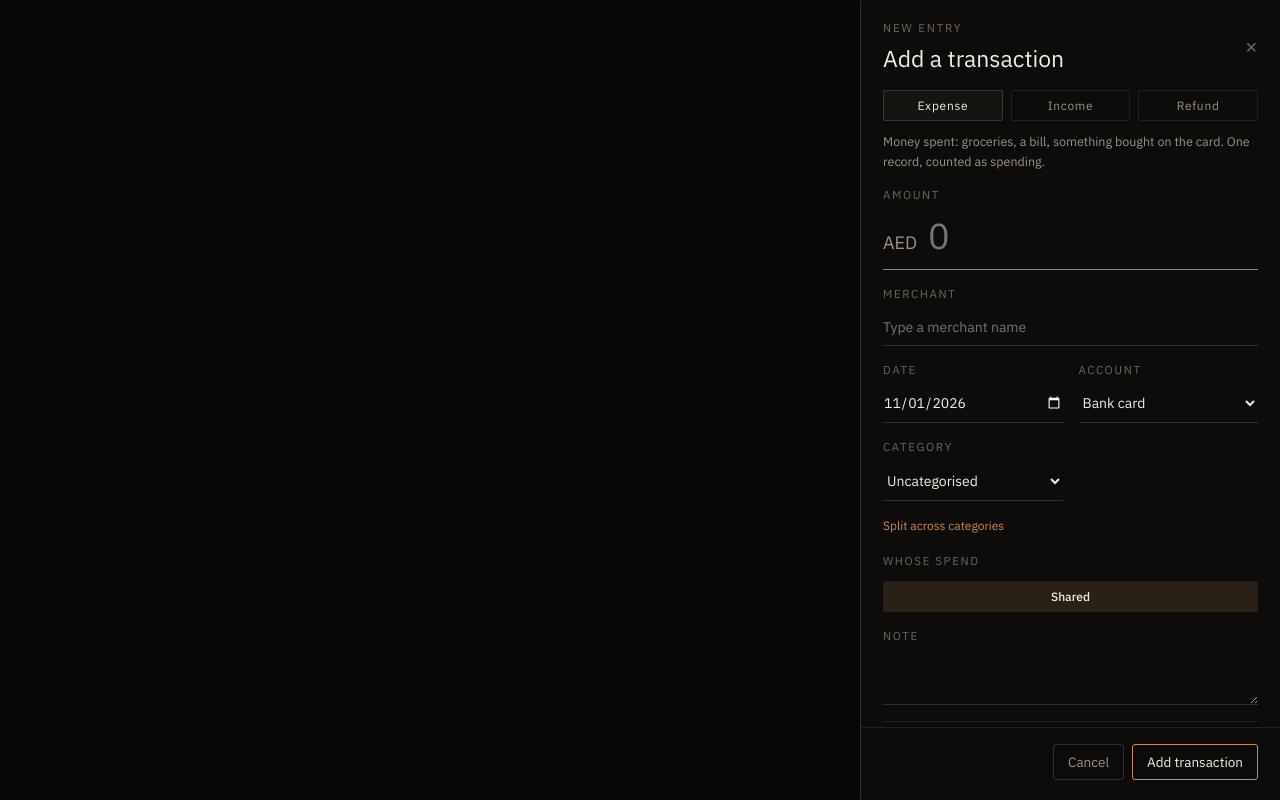
Test case: splitting a record across categories › refuses lines that do not add up, before saving anything
Type "500" into the number field with placeholder "0". click: (1093, 235)
box: [928,212,1258,259]
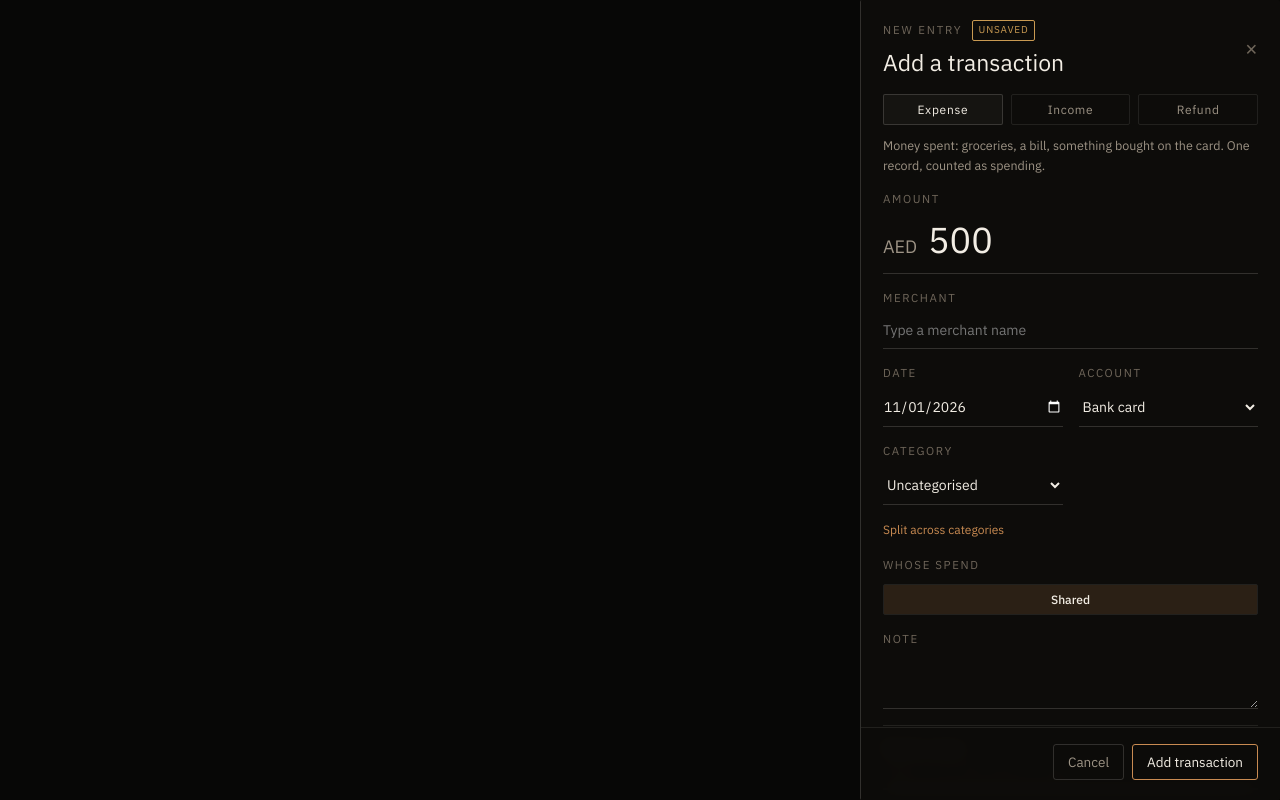
Click the button "Split across categories". click: (944, 530)
box: [883,521,1004,538]
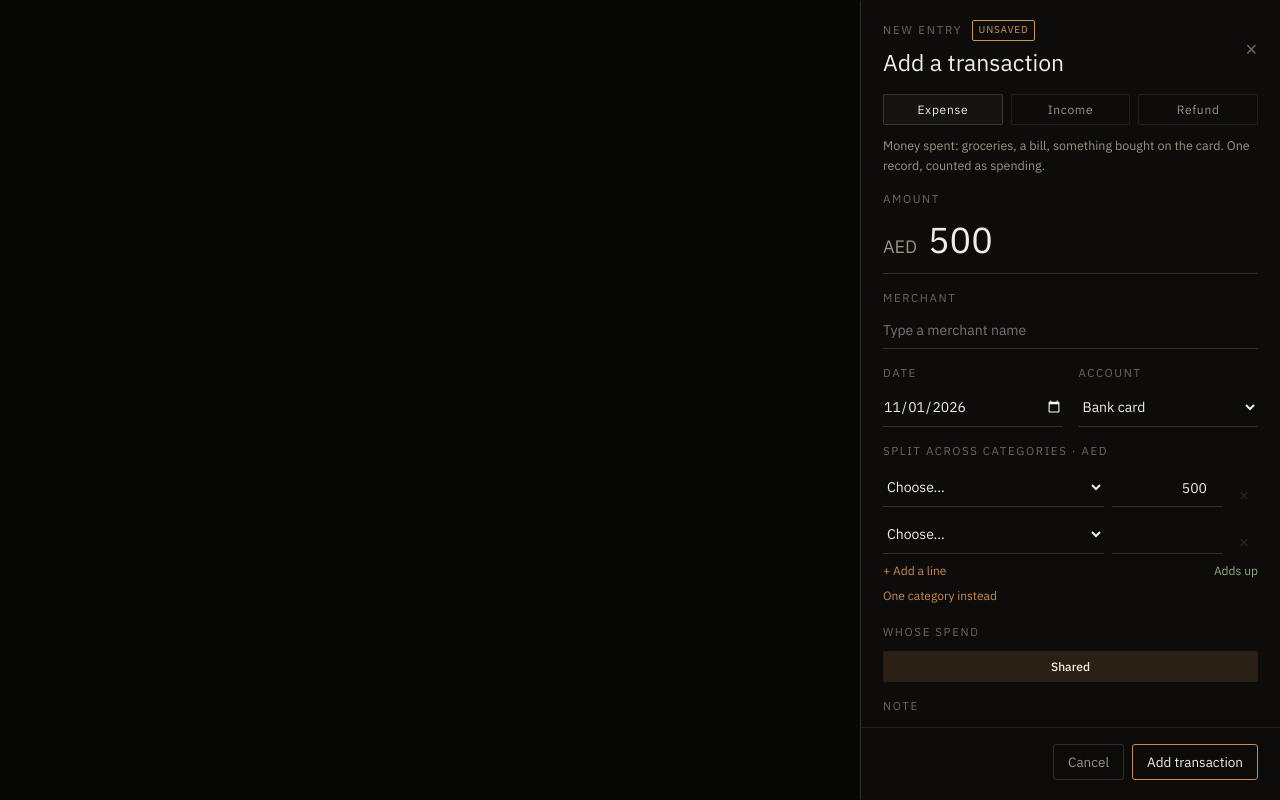
Select "Groceries" in the dropdown named "Category 1". click: (994, 487)
box: [883,468,1104,507]
Replace the text in the number field named "Amount 1" with "400". click: (1167, 488)
box: [1112,470,1222,507]
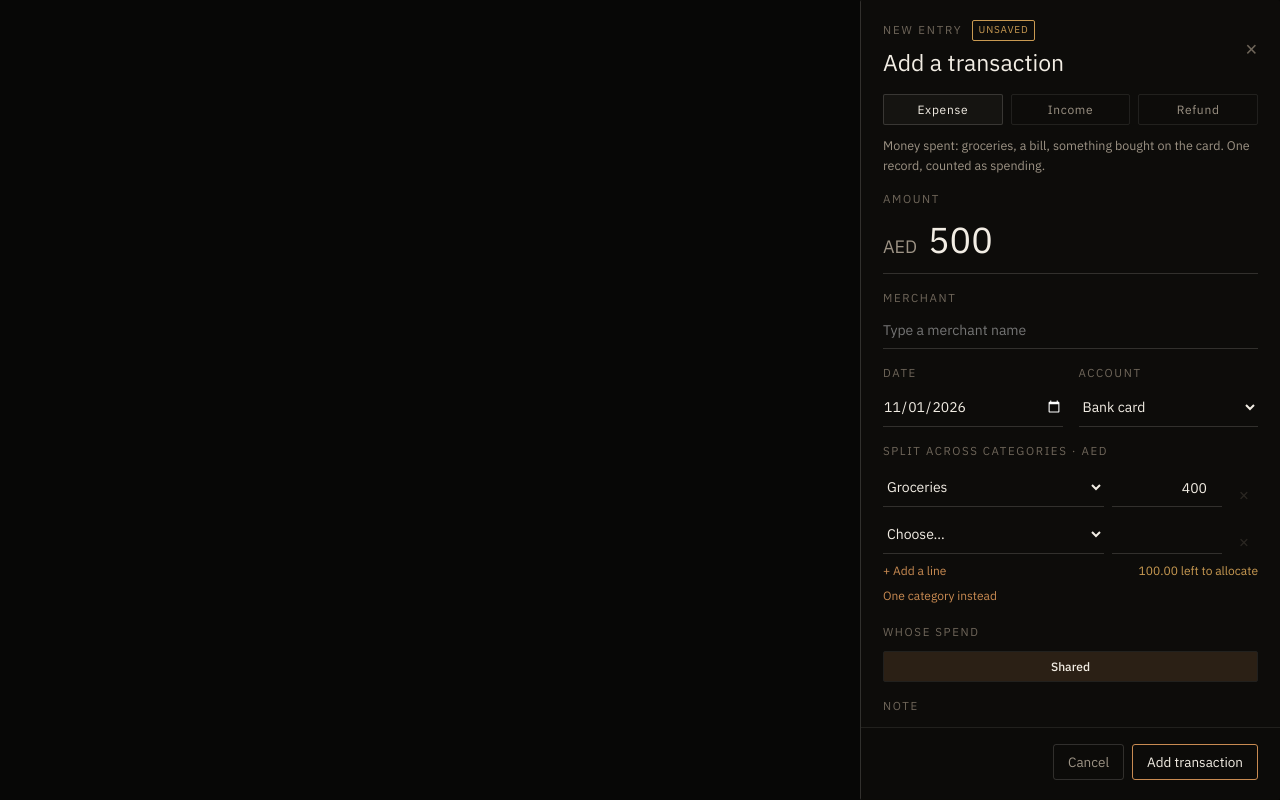
Select "Household" in the dropdown named "Category 2". click: (994, 534)
box: [883,515,1104,554]
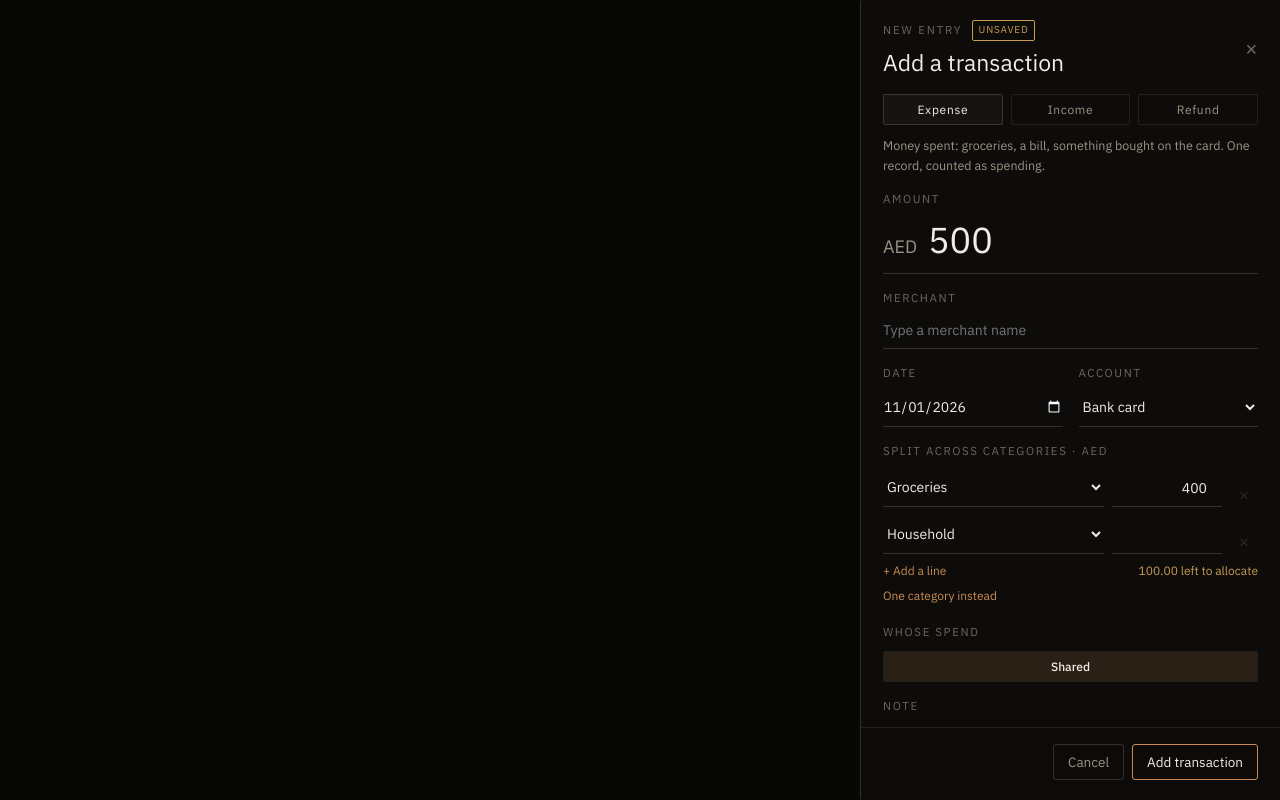
Type "50" into the number field named "Amount 2". click: (1167, 535)
box: [1112,517,1222,554]
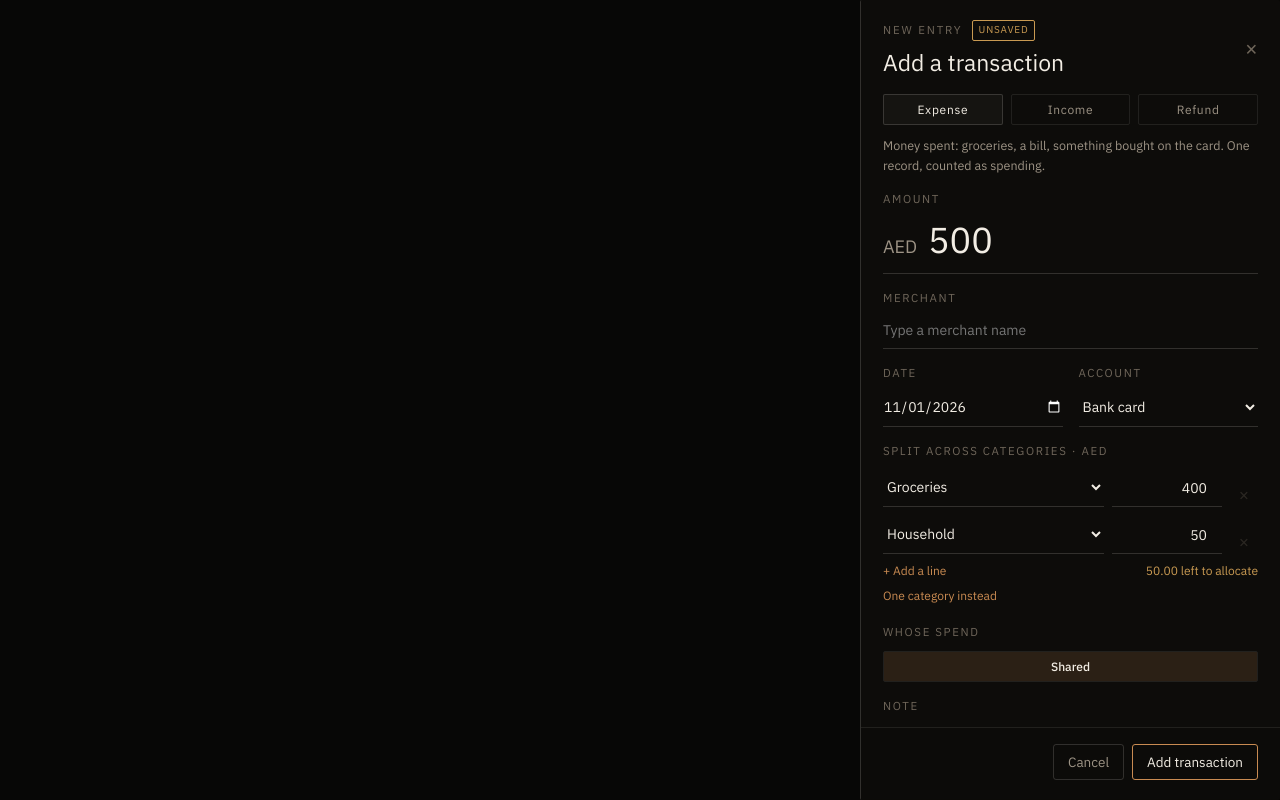
Check: the text "50.00 left to allocate" is shown, box [1146,562,1258,579]
Click the button "Add transaction". click: (1195, 762)
box: [1132,744,1258,780]
(page scrolled)
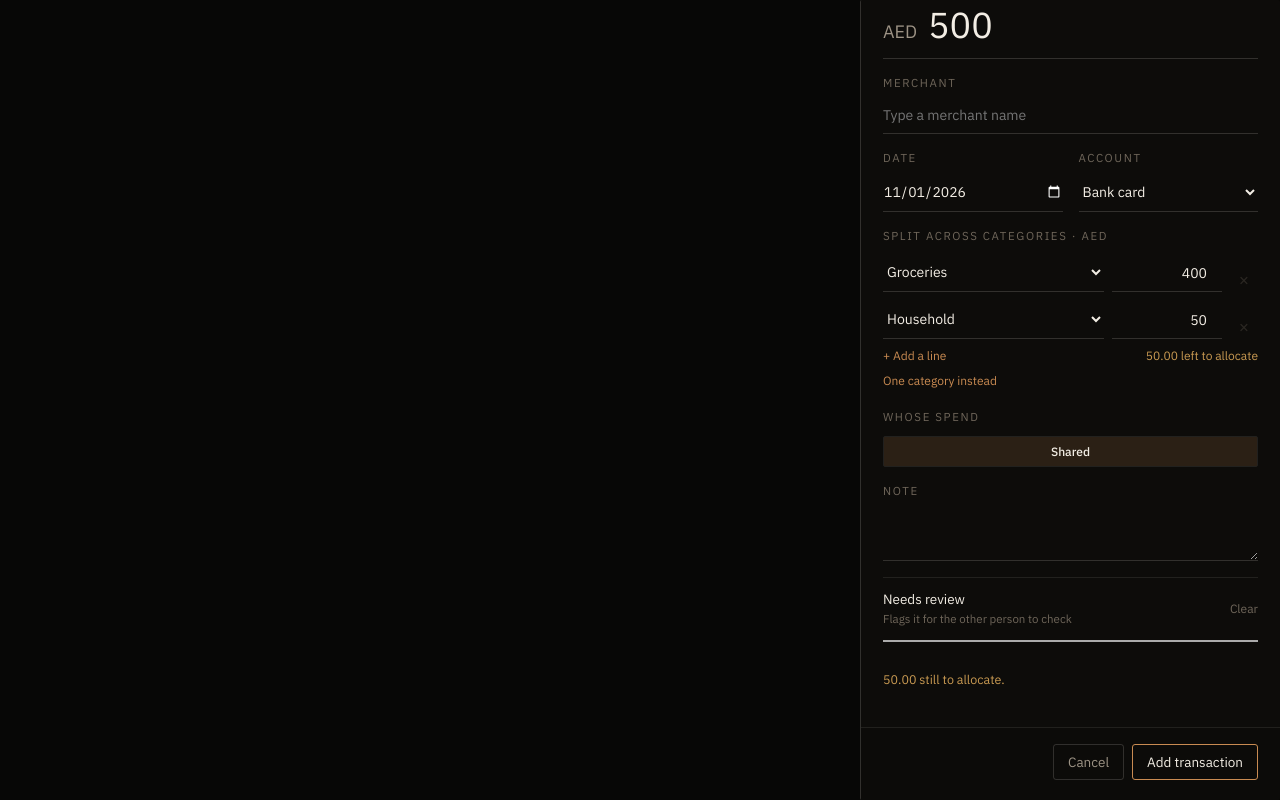
Check: the message reads "50.00 still to allocate.", box [883,671,1005,687]
